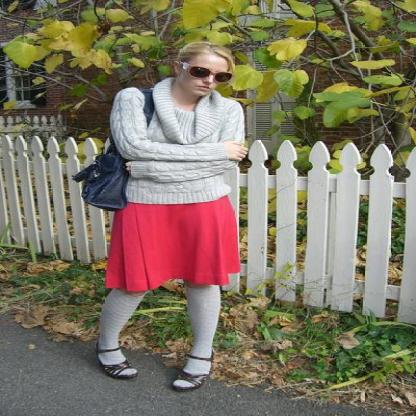bag: (73, 91, 159, 213)
jacket: (110, 78, 244, 203)
shoe: (96, 362, 206, 393)
skirt: (103, 196, 246, 291)
sunglass: (189, 66, 231, 82)
